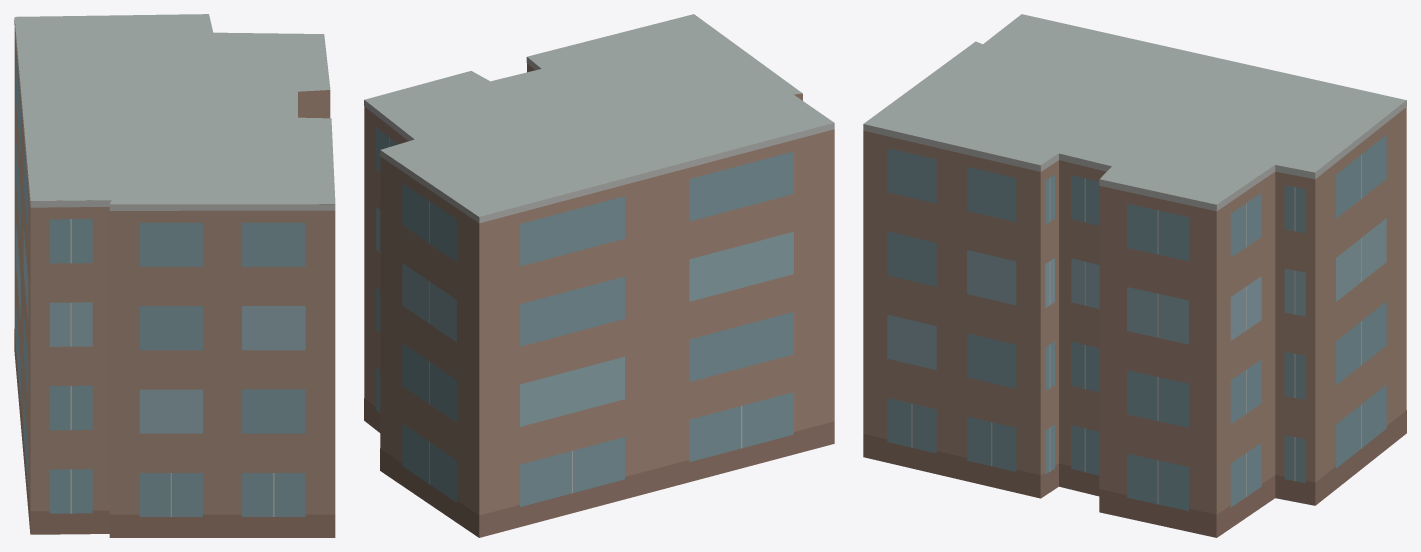
File: survey-upis-32682010.glb
3 renders of one model, left to right at view 1: azimuth 30°, elevation 25°; view 2: azimuth 150°, elevation 25°; view 3: azimuth 270°, elevation 25°, orthographic. The views are drawn at different scales.
Visible parts, largest first — view 1: survey-upis-32682010.tmp; view 2: survey-upis-32682010.tmp; view 3: survey-upis-32682010.tmp.
Boxes of the visible parts, left/top/right/bottom form: survey-upis-32682010.tmp: left=14, top=14, right=335, bottom=537; survey-upis-32682010.tmp: left=364, top=14, right=834, bottom=537; survey-upis-32682010.tmp: left=863, top=14, right=1406, bottom=537.
Size of the model in its own units: 15.11 by 12.3 by 18.2.
